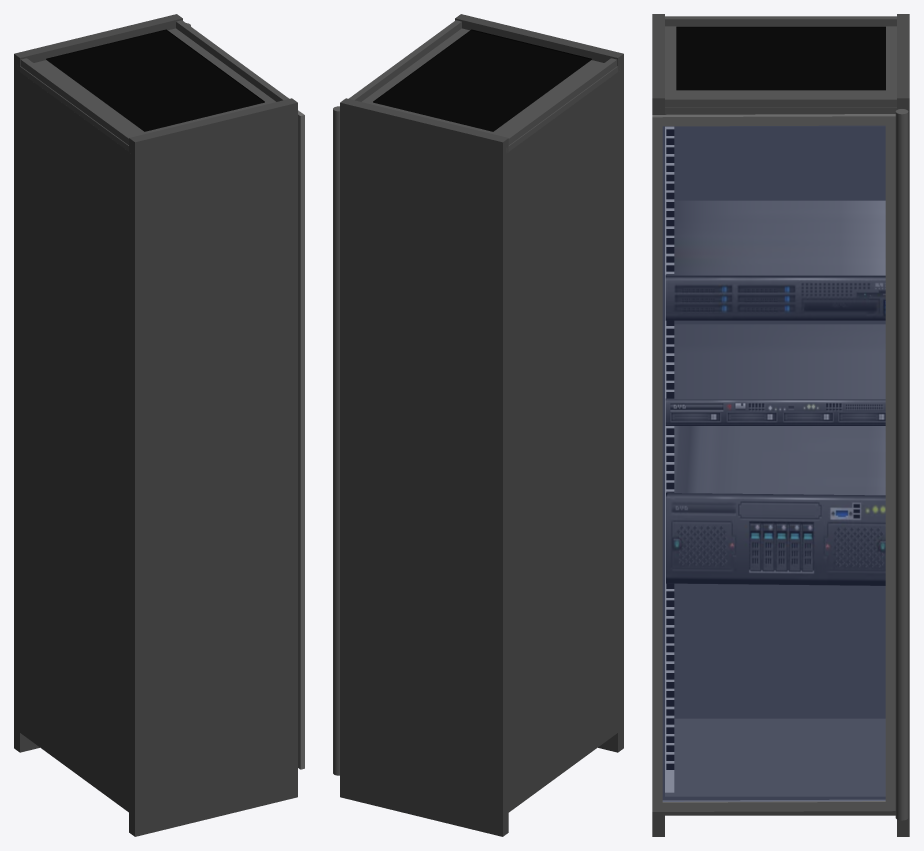
File: cabinet.gltf
3 renders of one model, left to right at view 1: azimuth 30°, elevation 25°; view 2: azimuth 150°, elevation 25°; view 3: azimuth 270°, elevation 25°, orthographic. The views are drawn at different scales.
Visible parts, largest first — view 1: 机柜, 立方体.002; view 2: 机柜, 柱体; view 3: 机柜门, 机柜, 立方体.005, 立方体.004, 立方体.006, 柱体, 立方体.002, 立方体, 立方体.003, 立方体.001.
Part boxes in pixels (left/top/right/bottom): 机柜: left=14, top=14, right=297, bottom=836; 立方体.002: left=298, top=111, right=304, bottom=769; 机柜: left=340, top=14, right=623, bottom=836; 柱体: left=333, top=106, right=339, bottom=775; 机柜门: left=663, top=126, right=885, bottom=801; 机柜: left=652, top=14, right=909, bottom=836; 立方体.005: left=666, top=426, right=885, bottom=585; 立方体.004: left=665, top=200, right=885, bottom=320; 立方体.006: left=665, top=324, right=885, bottom=425; 柱体: left=895, top=109, right=908, bottom=820; 立方体.002: left=652, top=115, right=662, bottom=811; 立方体: left=885, top=114, right=895, bottom=810; 立方体.003: left=654, top=799, right=893, bottom=811; 立方体.001: left=662, top=114, right=885, bottom=126.
Bounding box in the file's own units: 4.24 × 16.3 × 5.15.
352 materials, 3 textured.
